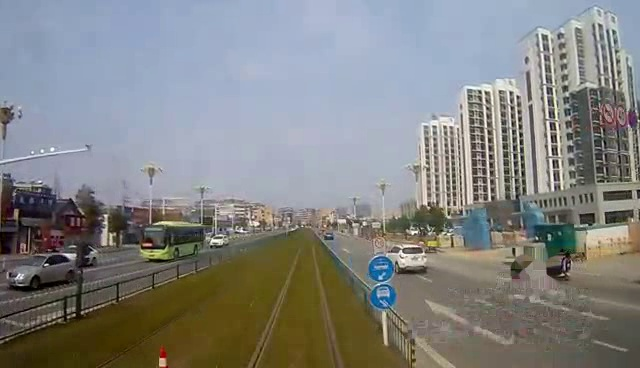bus: (134, 218, 212, 261)
car: (3, 251, 75, 291), (383, 238, 432, 278), (205, 228, 236, 252)
